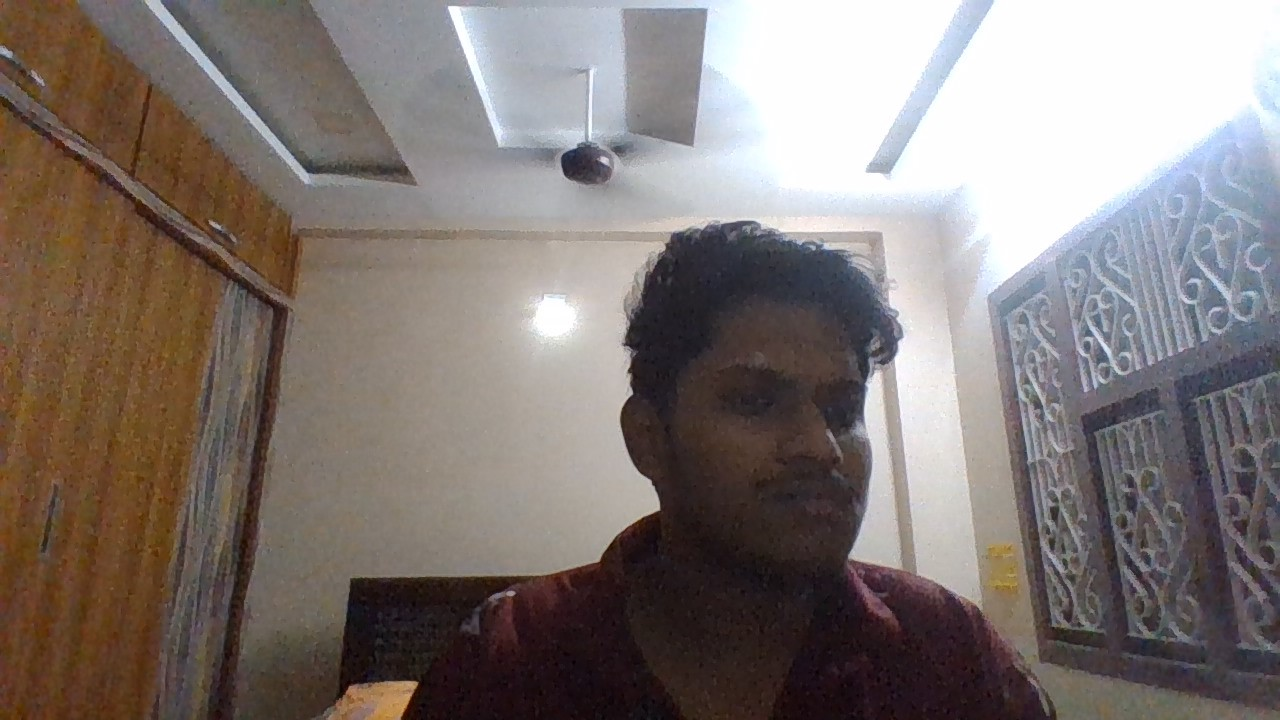person: (514, 90, 1034, 720)
